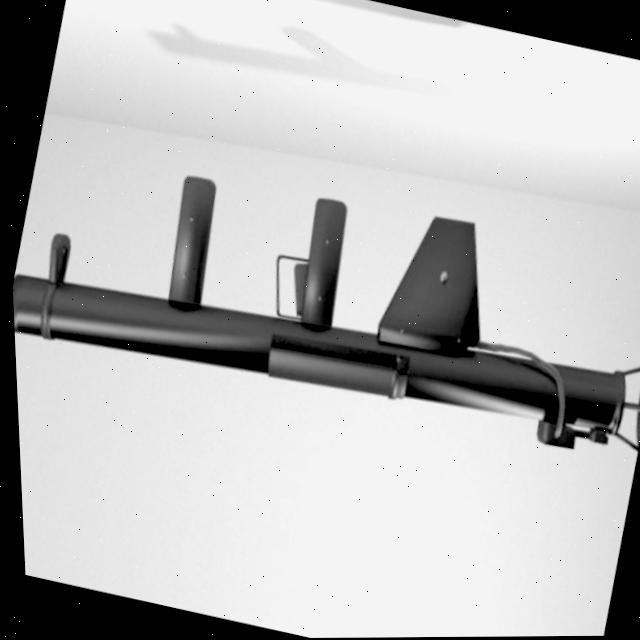rocket: (4, 110, 640, 496)
